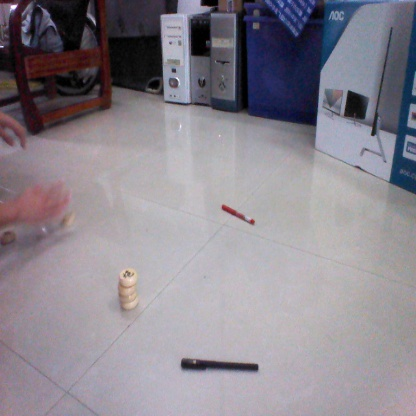chess: (115, 268, 140, 310), (1, 229, 18, 247)
pen: (180, 357, 262, 373), (217, 200, 258, 226)
